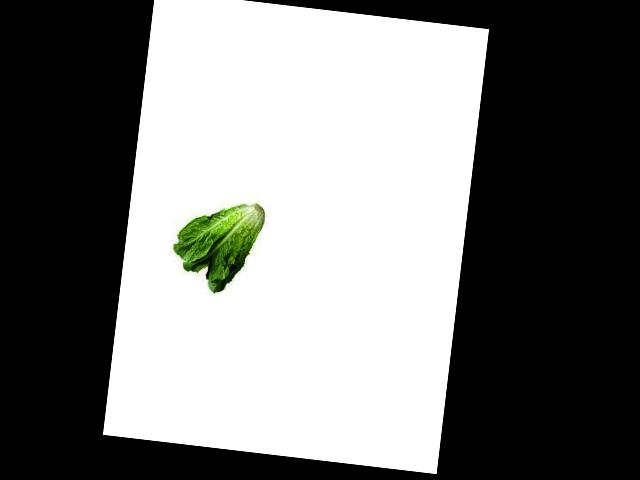lettuce: (170, 182, 267, 302)
